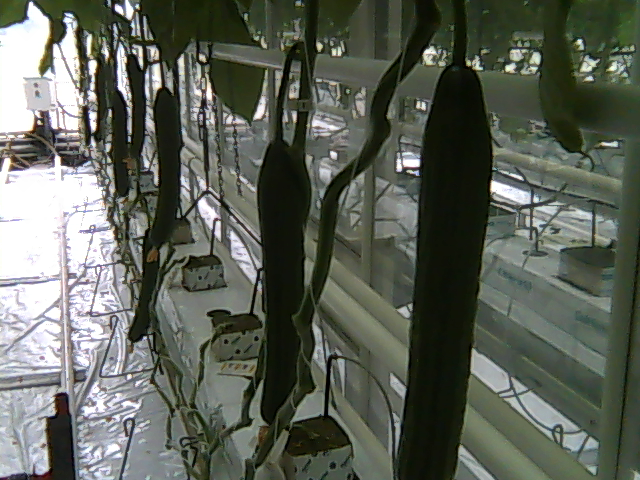concombre: (390, 35, 498, 480), (255, 137, 315, 443), (144, 82, 184, 266)
